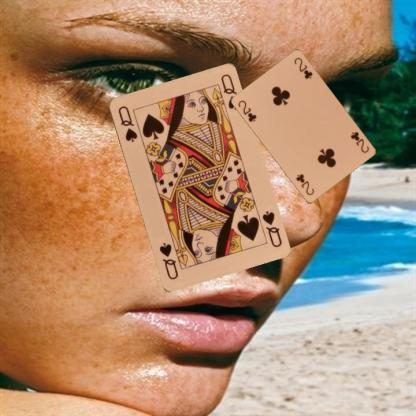2c: (348, 129, 370, 154), (236, 98, 258, 123)
Qs: (115, 103, 139, 143), (259, 208, 283, 248)
